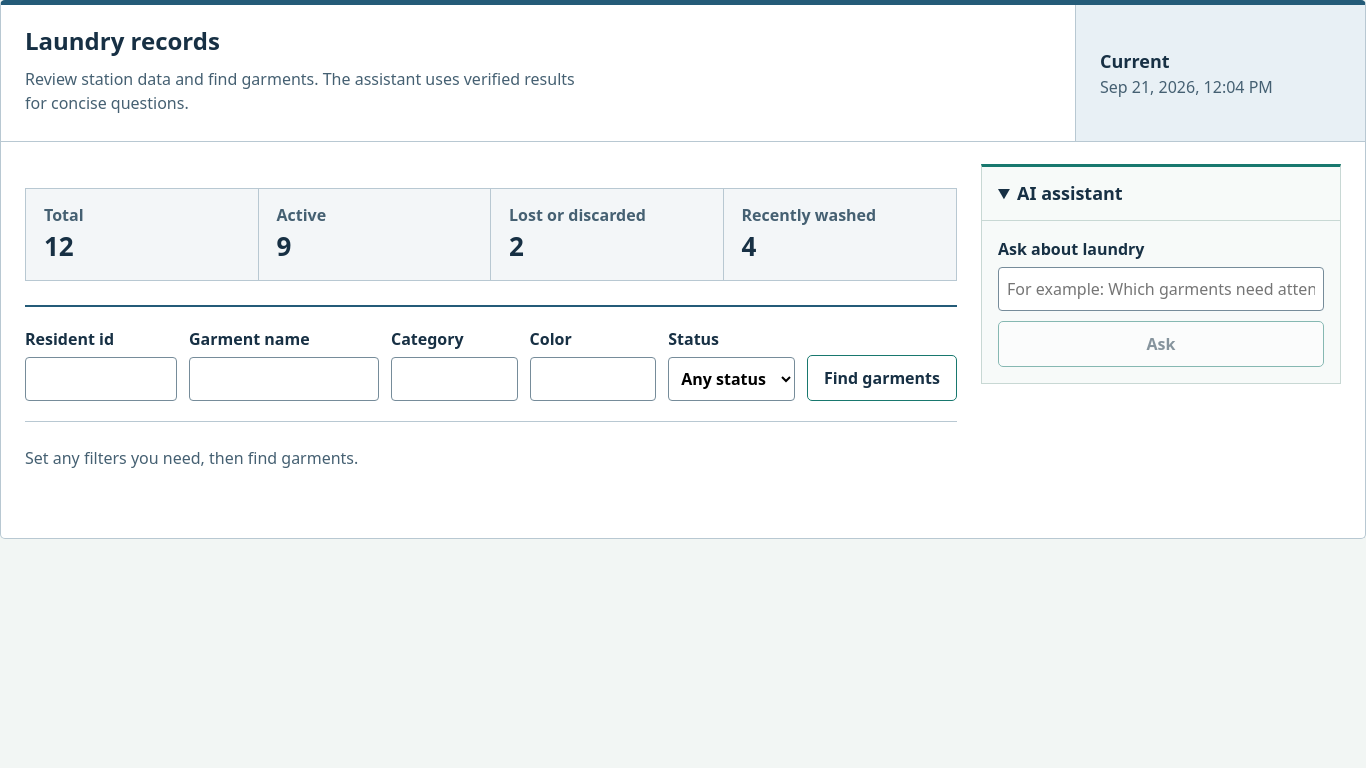
does not invent verified answer freshness for none results
Expected: the text "12" is shown, [44,228,74,264]
Type "Summary?" into the field labelled "Ask about laundry" at (1161, 289), box [998,267,1324,311]
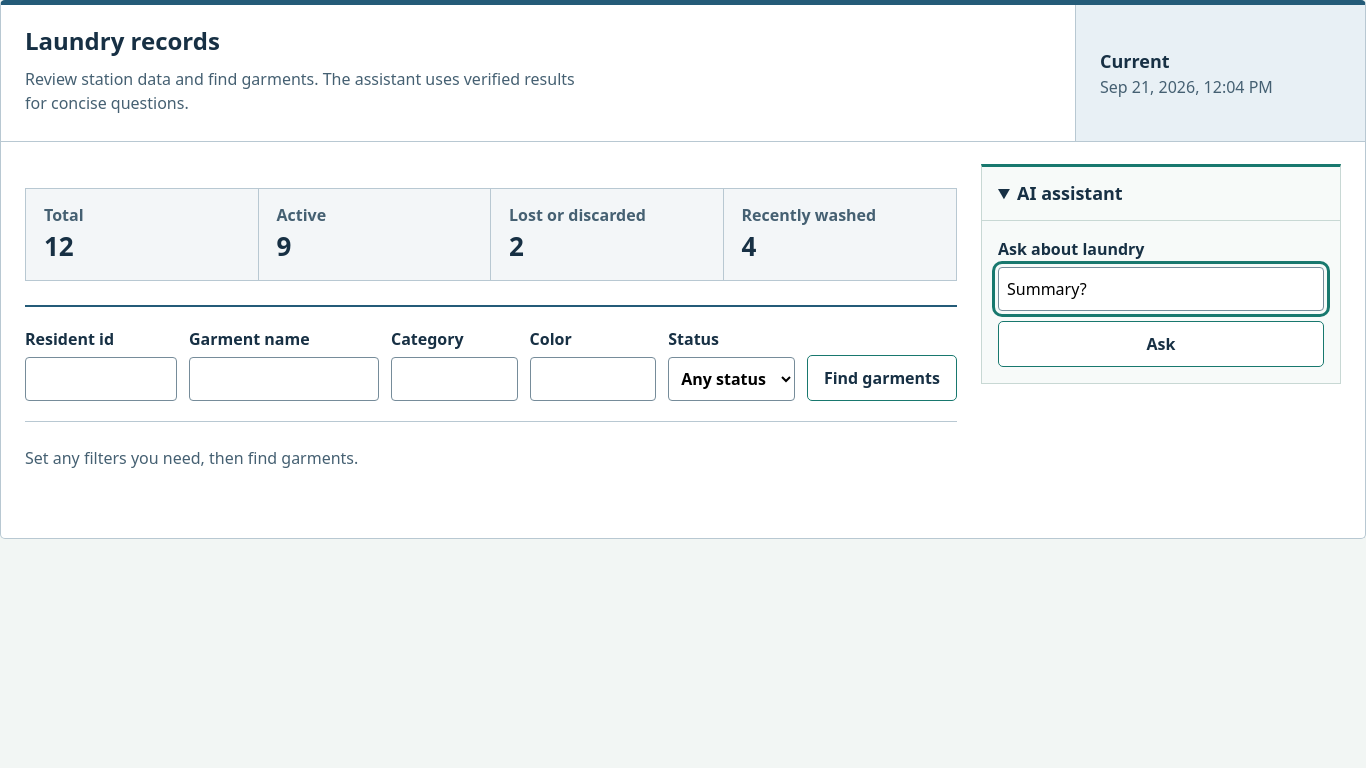
Click the button "Ask" at (1161, 344), box [998,321,1324,367]
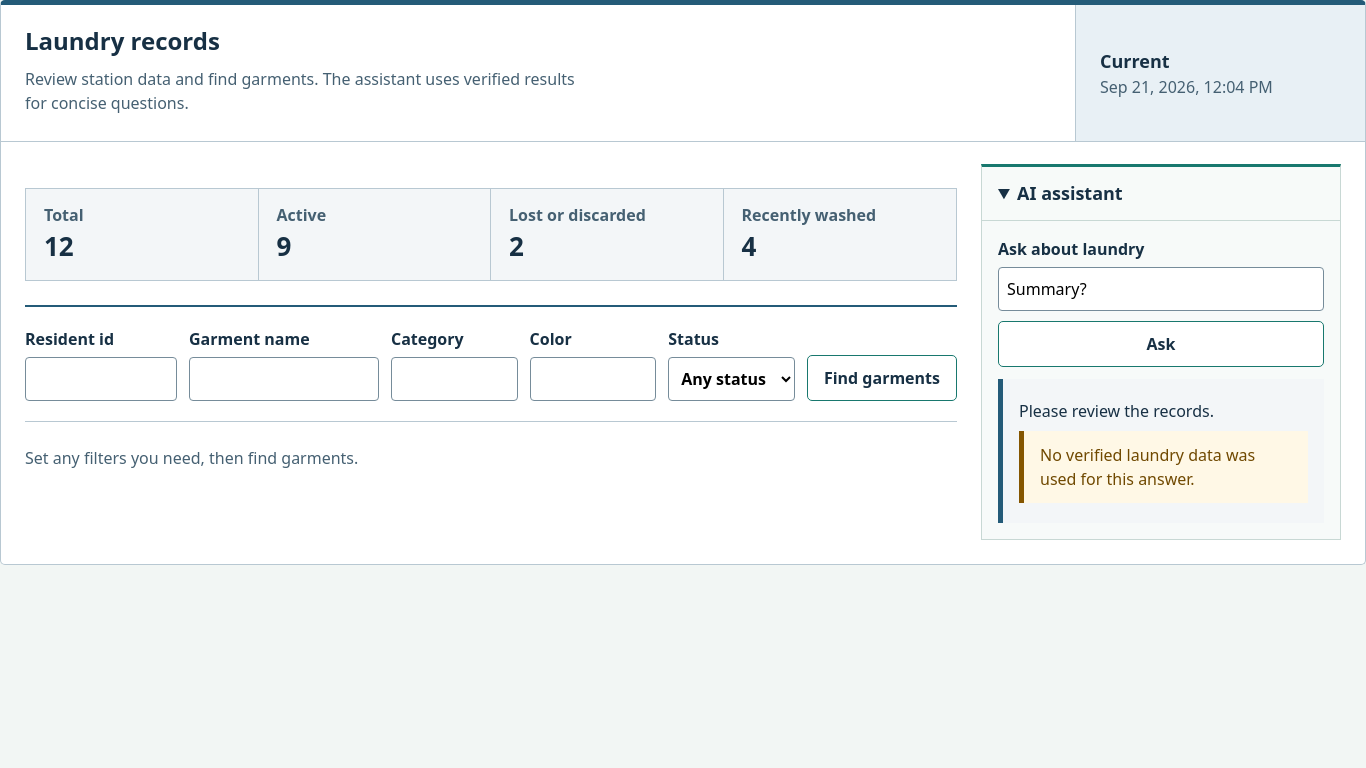
Now the text "No verified laundry data was used for this answer." is shown, box [1019,431,1308,503]
